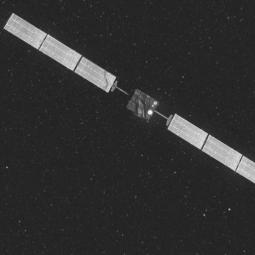smart_1: (58, 50, 218, 164)
